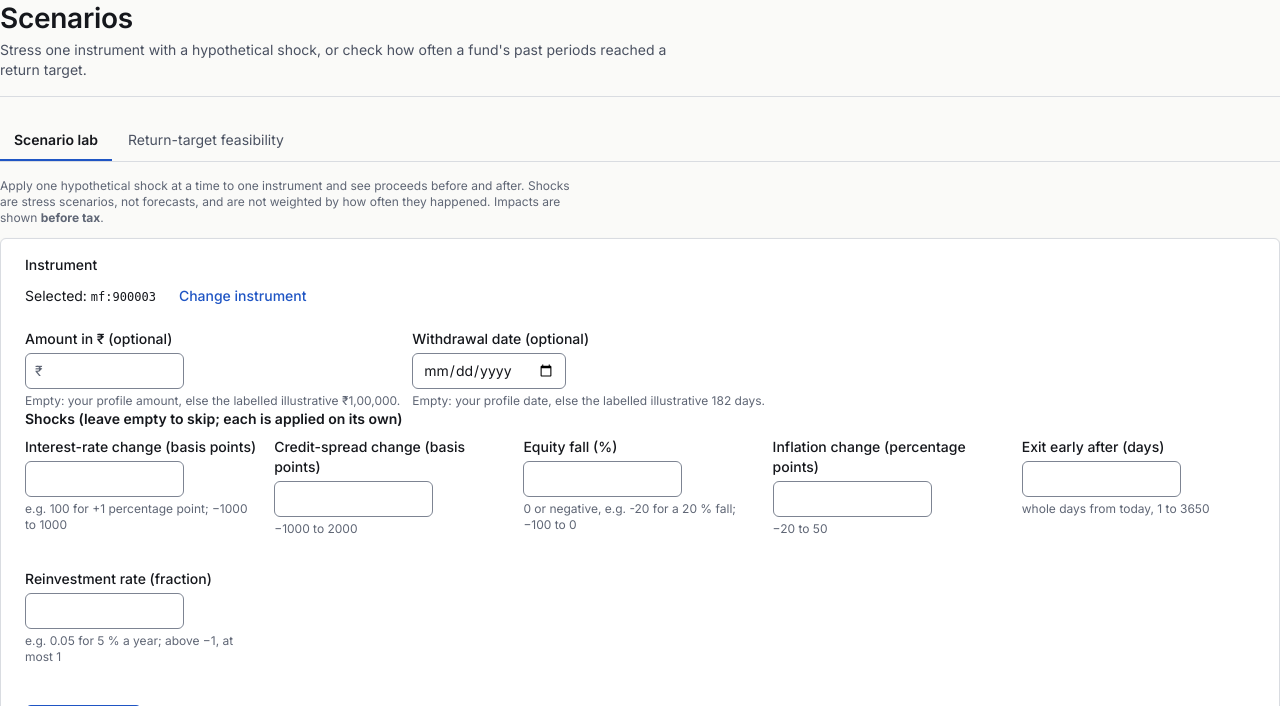
Test: Scenario lab › shows the API's validation message on a 422
Type "999" into the field labelled "Interest-rate change (basis points)".
click(104, 479); type("999")  # box [25,461,184,497]
(page scrolled)
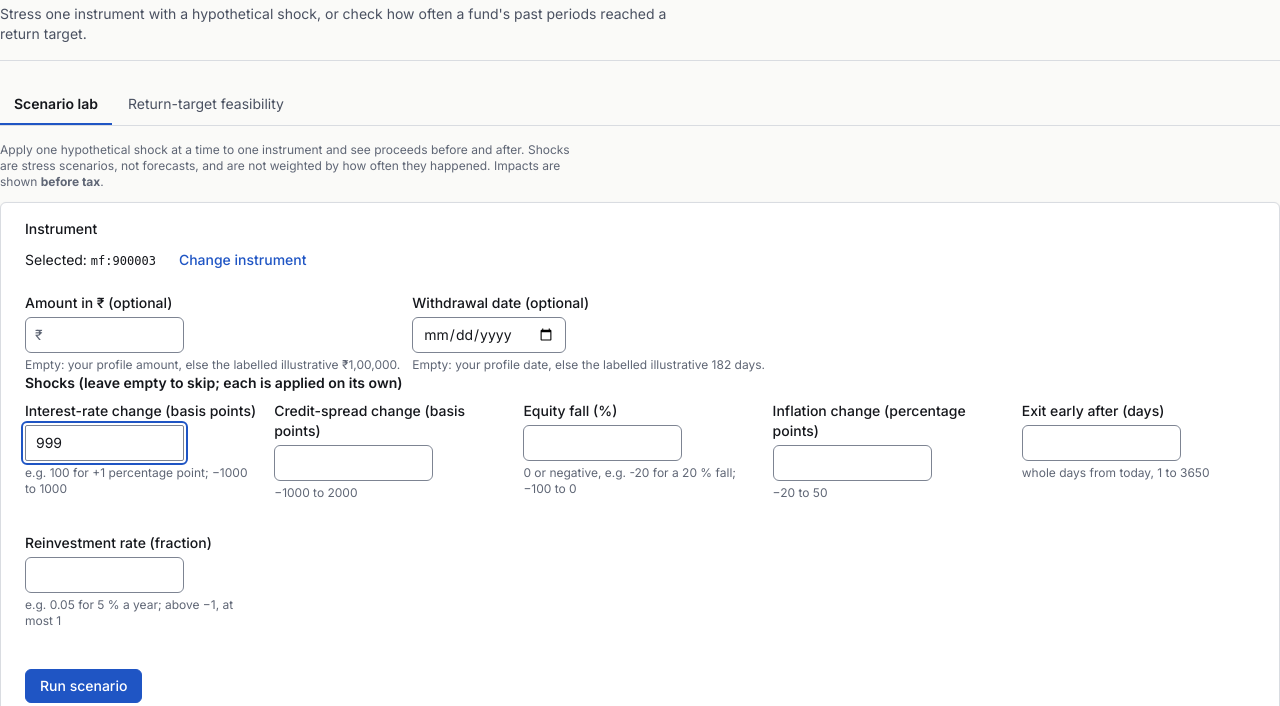
Click the button "Run scenario".
click(84, 686)  # box [25,669,142,703]
(page scrolled)
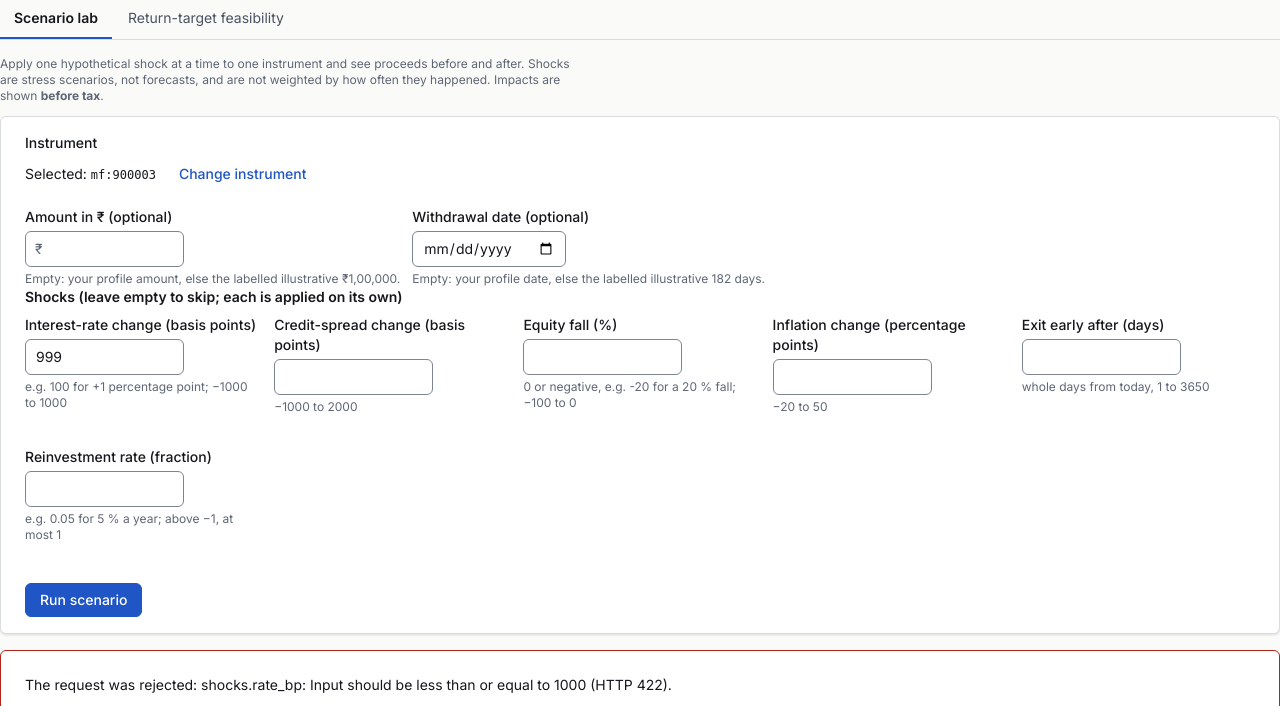
Expected: the text "shocks.rate_bp: Input should be less than or equal to 1000" is shown, [25,676,672,693]
